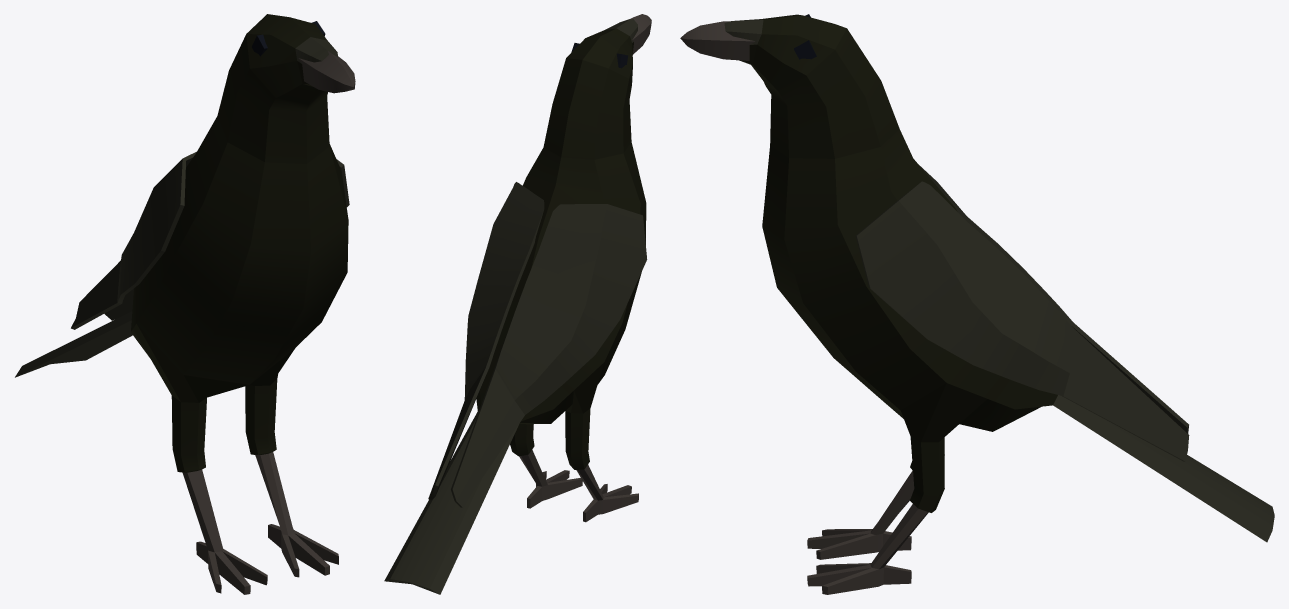
The model's file is Mesh_Crow.obj.
3 views of the same model, side by side, from view 1: azimuth 30°, elevation 25°; view 2: azimuth 150°, elevation 25°; view 3: azimuth 270°, elevation 25° (orthographic). The views are drawn at different scales.
Visible parts, largest first — view 1: Geo_Crow; view 2: Geo_Crow; view 3: Geo_Crow.
Part boxes in pixels (x1,y1,x2,y2): Geo_Crow: (15, 14, 355, 594); Geo_Crow: (384, 14, 651, 594); Geo_Crow: (680, 14, 1274, 594).
Bounding box in the file's own units: 17.36 × 50.08 × 48.97.
Materials: 1 (1 with a texture image).
